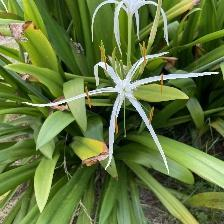spider lily: (24, 49, 220, 176)
